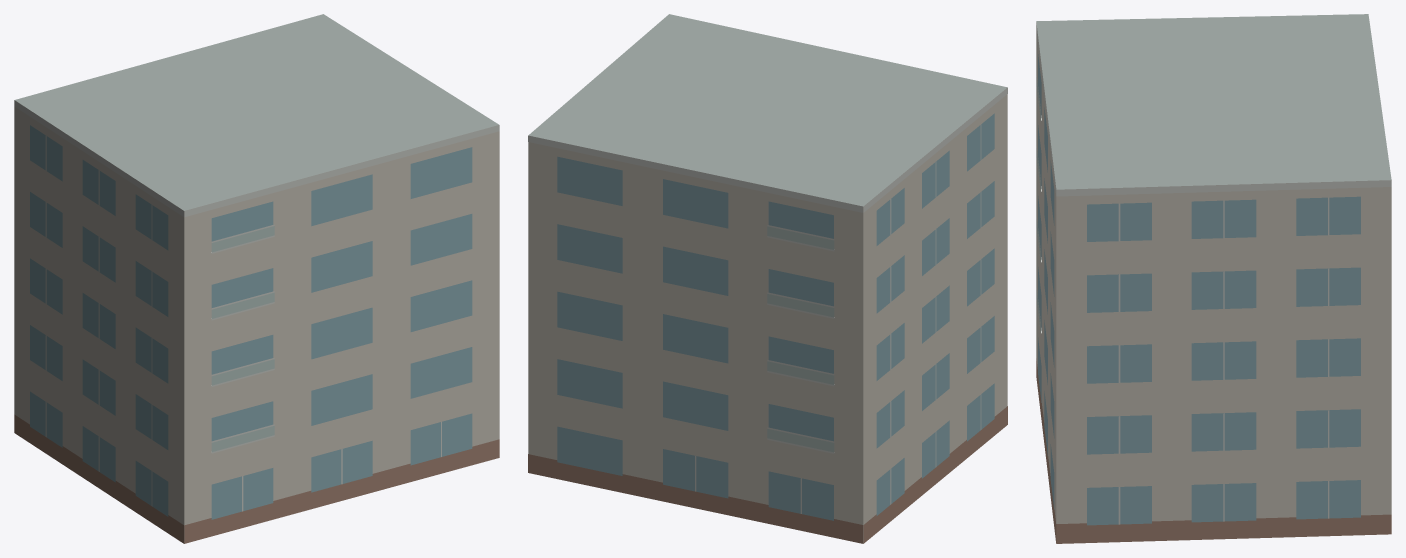
Rendered from survey-upis-32736572.glb.
3 views of the same model, side by side, from view 1: azimuth 30°, elevation 25°; view 2: azimuth 150°, elevation 25°; view 3: azimuth 270°, elevation 25° (orthographic). The views are drawn at different scales.
Parts seen in each view (by area): view 1: survey-upis-32736572.tmp; view 2: survey-upis-32736572.tmp; view 3: survey-upis-32736572.tmp.
Boxes of the visible parts, x1,y1,x2,y2 form: survey-upis-32736572.tmp: (14, 14, 499, 543); survey-upis-32736572.tmp: (528, 14, 1007, 543); survey-upis-32736572.tmp: (1036, 14, 1391, 543).
Size of the model in its own units: 13.52 by 12.7 by 11.56.
